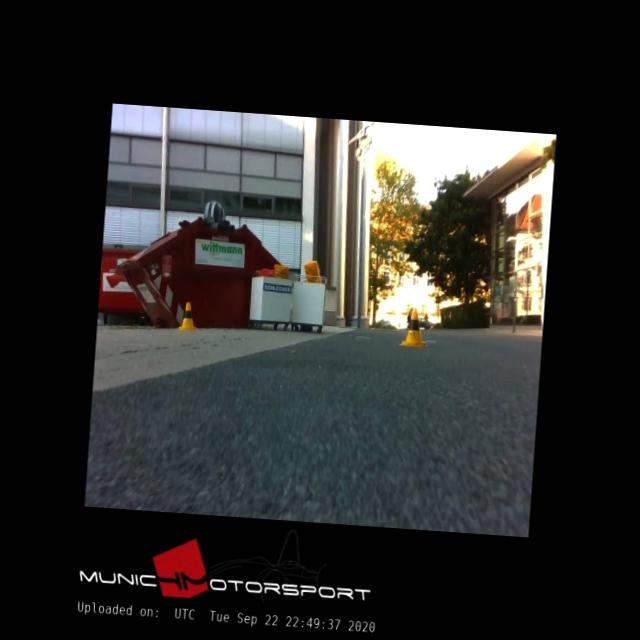yellow_cone: (399, 309, 430, 347), (178, 302, 198, 331)
